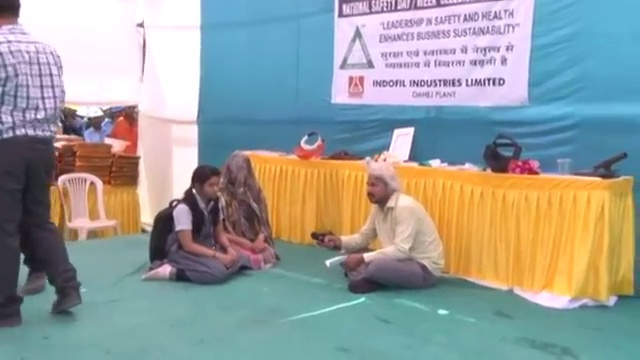helmet: (104, 135, 130, 155), (85, 106, 105, 131), (86, 107, 103, 121)
helmet_off: (357, 163, 402, 211), (220, 157, 259, 205), (187, 166, 219, 209), (0, 1, 26, 35), (121, 105, 138, 121)
person: (0, 1, 84, 330), (323, 160, 445, 297), (152, 170, 260, 293), (219, 152, 279, 274), (113, 106, 138, 155), (83, 107, 113, 143)
